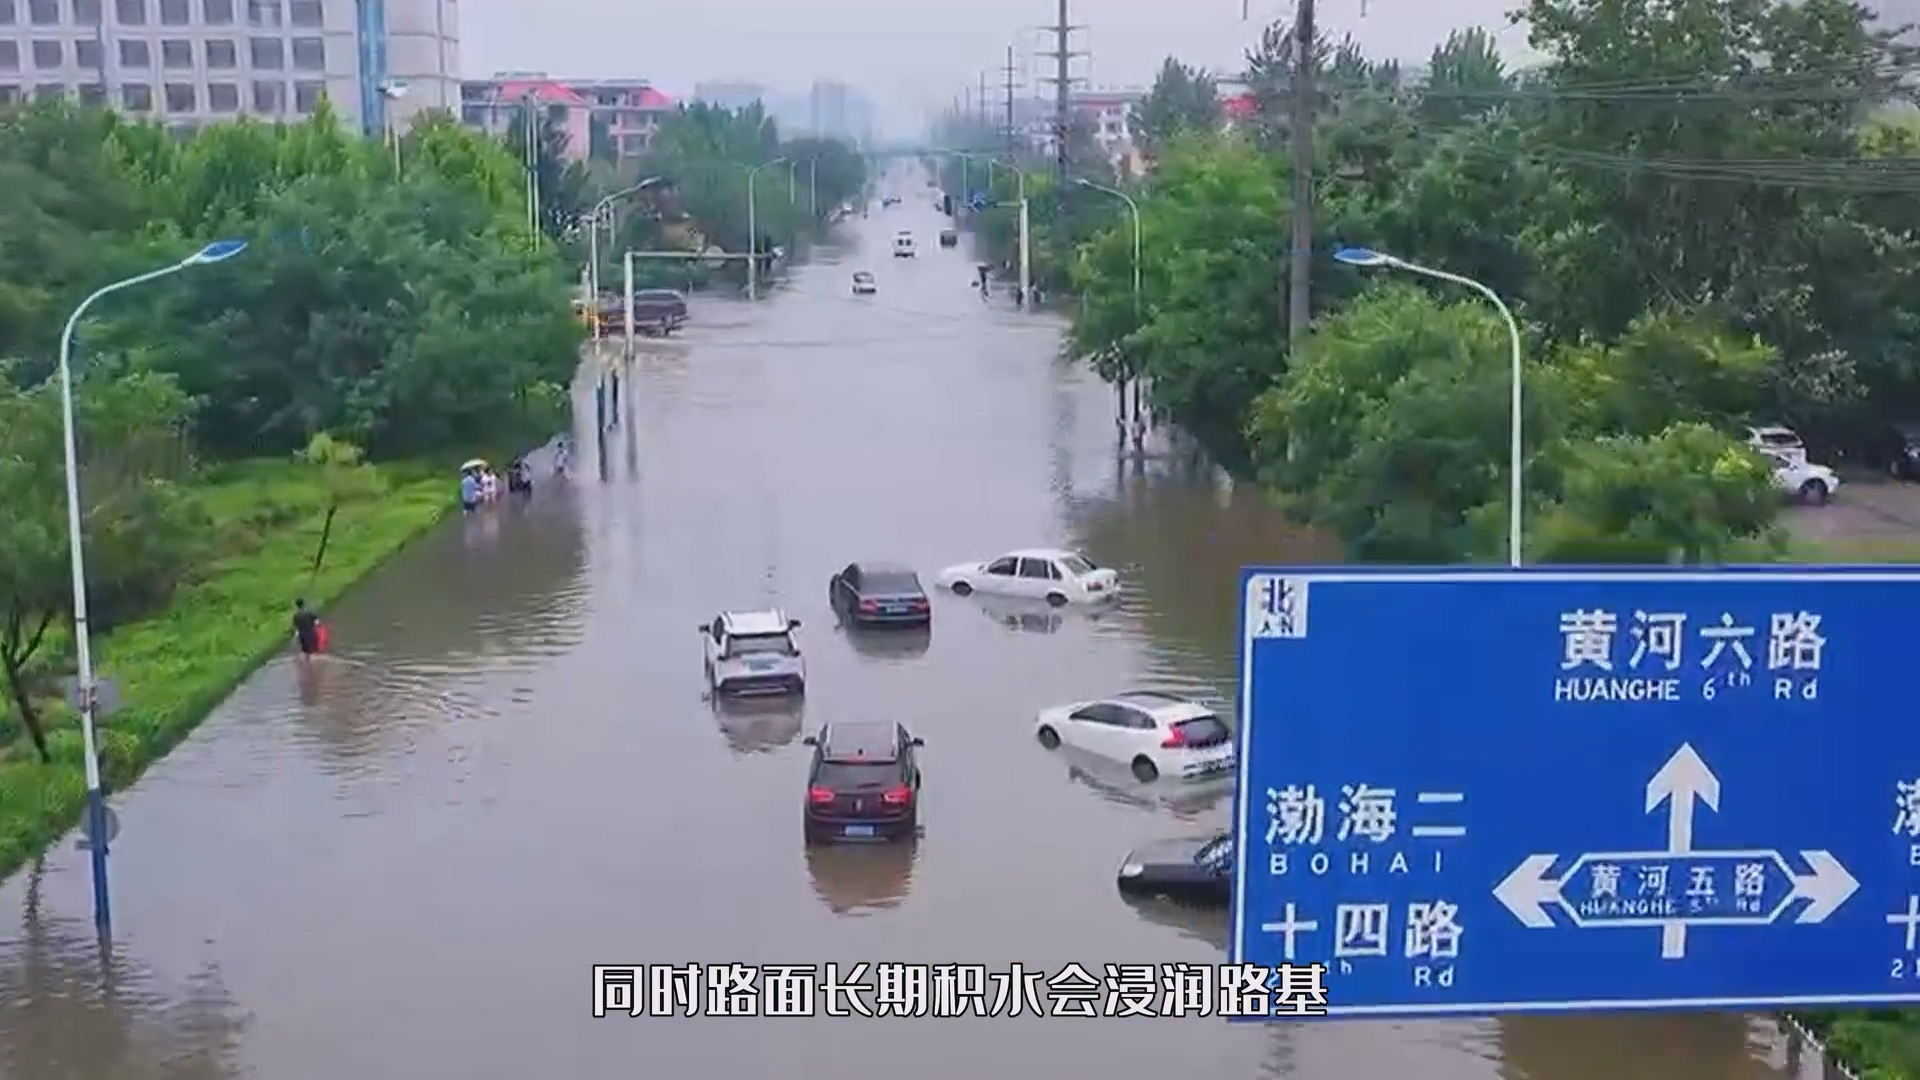puddle: (173, 357, 1201, 1080)
